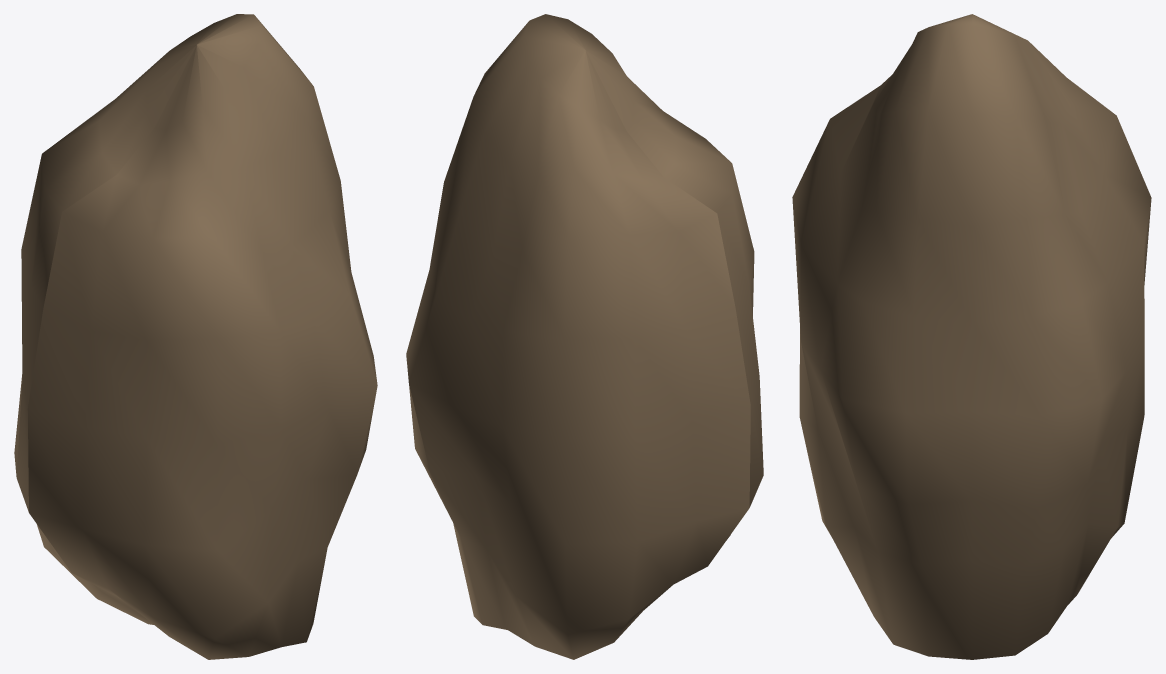
File: DesertRock5.glb
3 views of the same model, side by side, from view 1: azimuth 30°, elevation 25°; view 2: azimuth 150°, elevation 25°; view 3: azimuth 270°, elevation 25° (orthographic). The views are drawn at different scales.
Bounding box in the file's own units: 0.4853 × 0.8777 × 0.4667.
